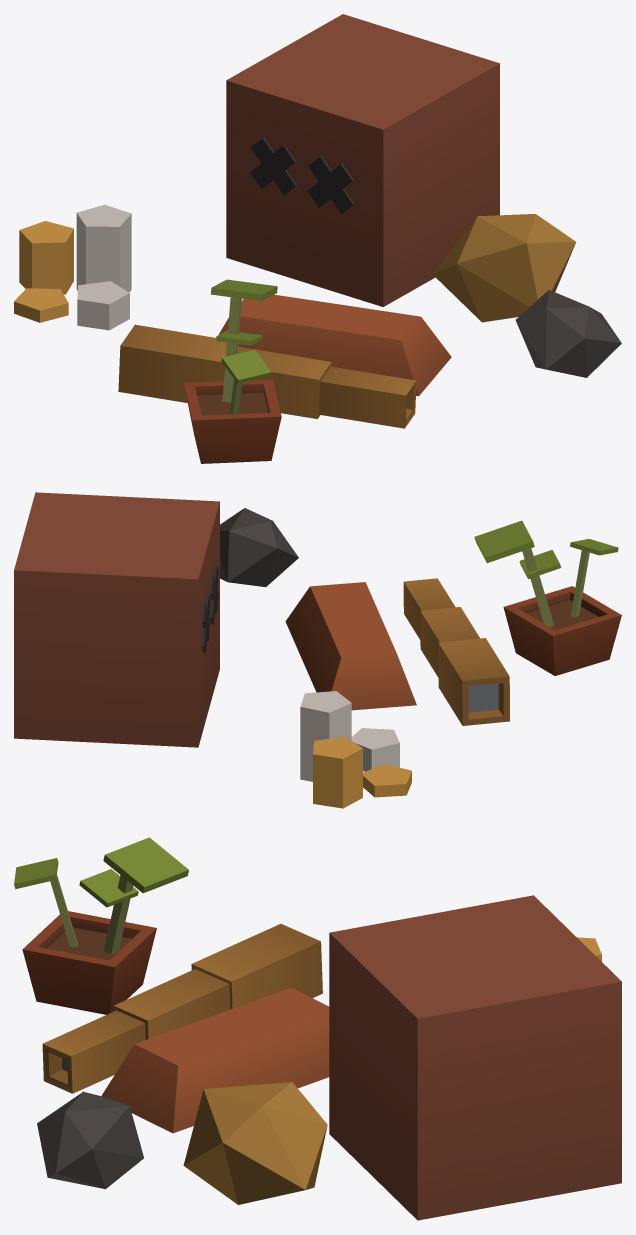
Rendered from goods.glb.
3 renders of one model, top to bottom at view 1: azimuth 30°, elevation 25°; view 2: azimuth 150°, elevation 25°; view 3: azimuth 270°, elevation 25°, orthographic. The views are drawn at different scales.
Visible parts, largest first — view 1: Cube.028; view 2: Cube.028; view 3: Cube.028.
Boxes of the visible parts, <box> form: Cube.028: <box>14,14,621,463</box>; Cube.028: <box>14,492,621,808</box>; Cube.028: <box>14,837,621,1220</box>.
Bounding box in the file's own units: 0.9693 × 0.3632 × 0.9699.
